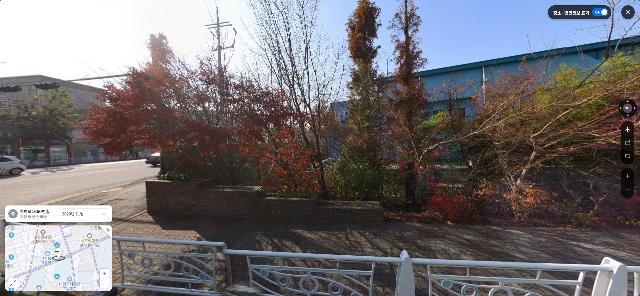other: (394, 0, 640, 226), (77, 32, 312, 193), (220, 1, 352, 199), (328, 0, 388, 202), (385, 0, 430, 213), (1, 84, 83, 168)
